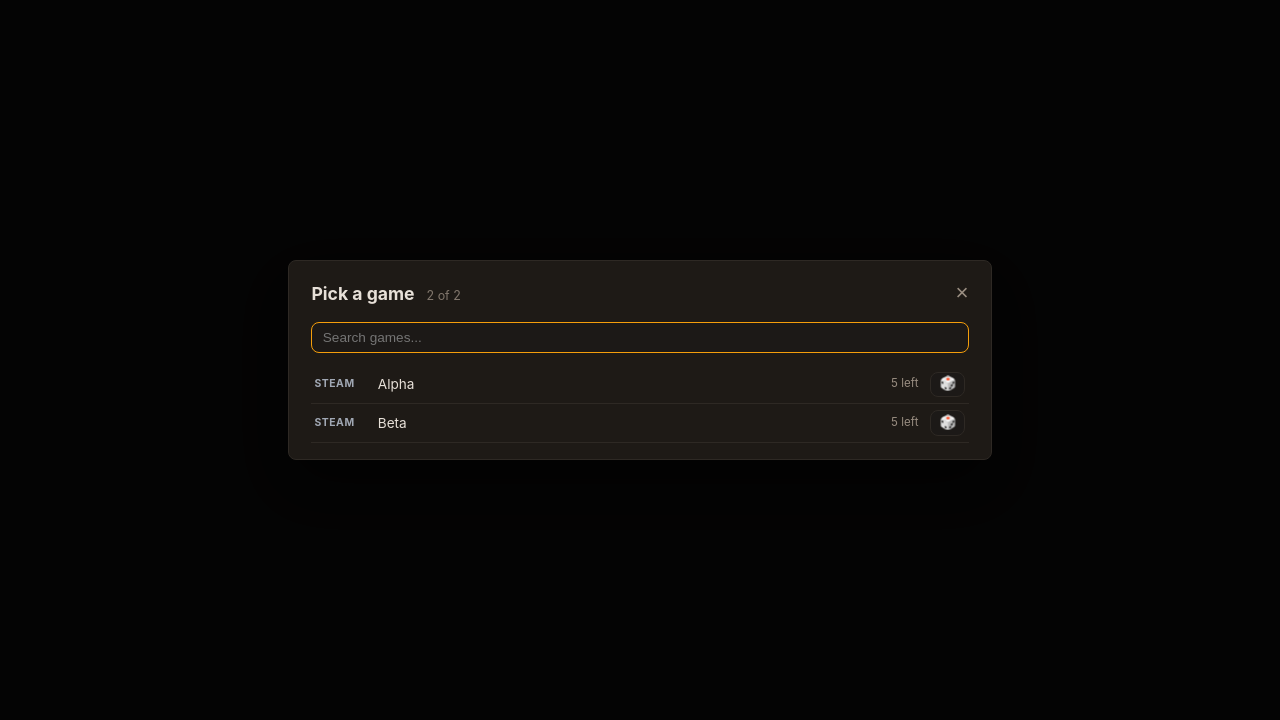
Scenario: ManualPickerOverlay › filters the game list by the search box
Type "alph" into the search field with placeholder "Search games...".
click(640, 337); type("alph")  # box [311,322,969,353]
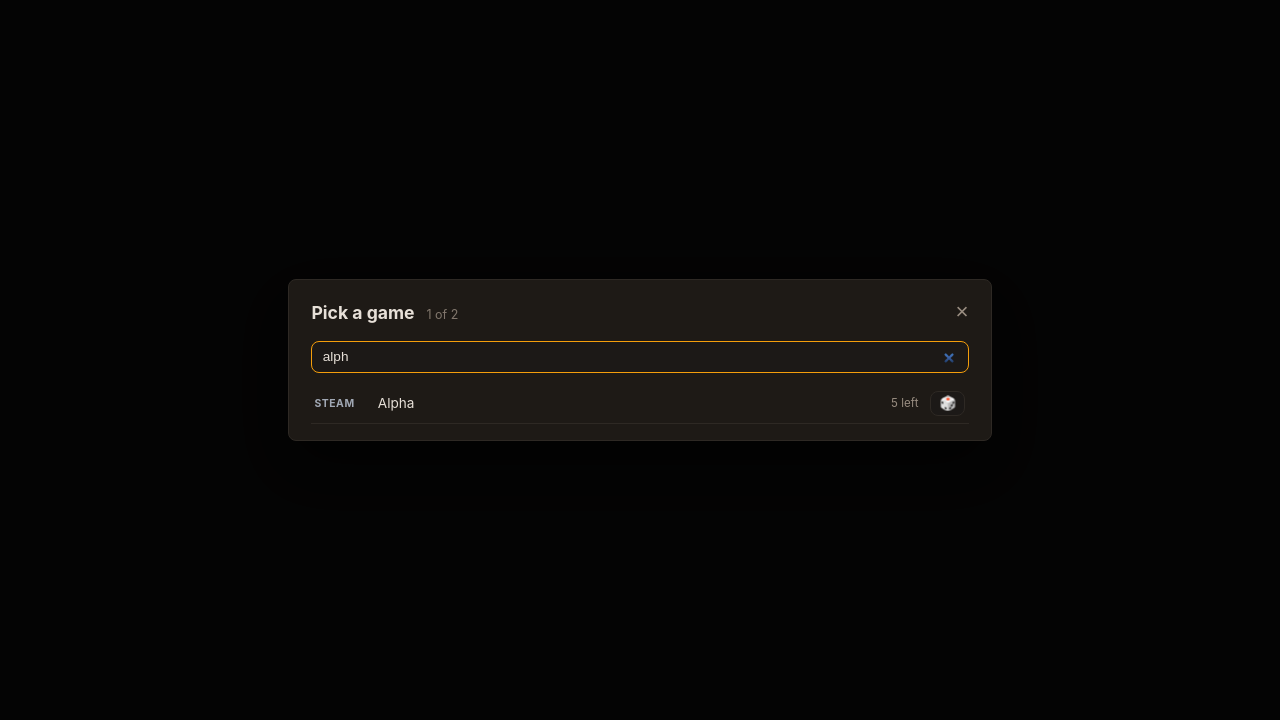
Check: the text "Alpha" is shown, box [378,395,414,411]
Check: the button "Beta" is gone
